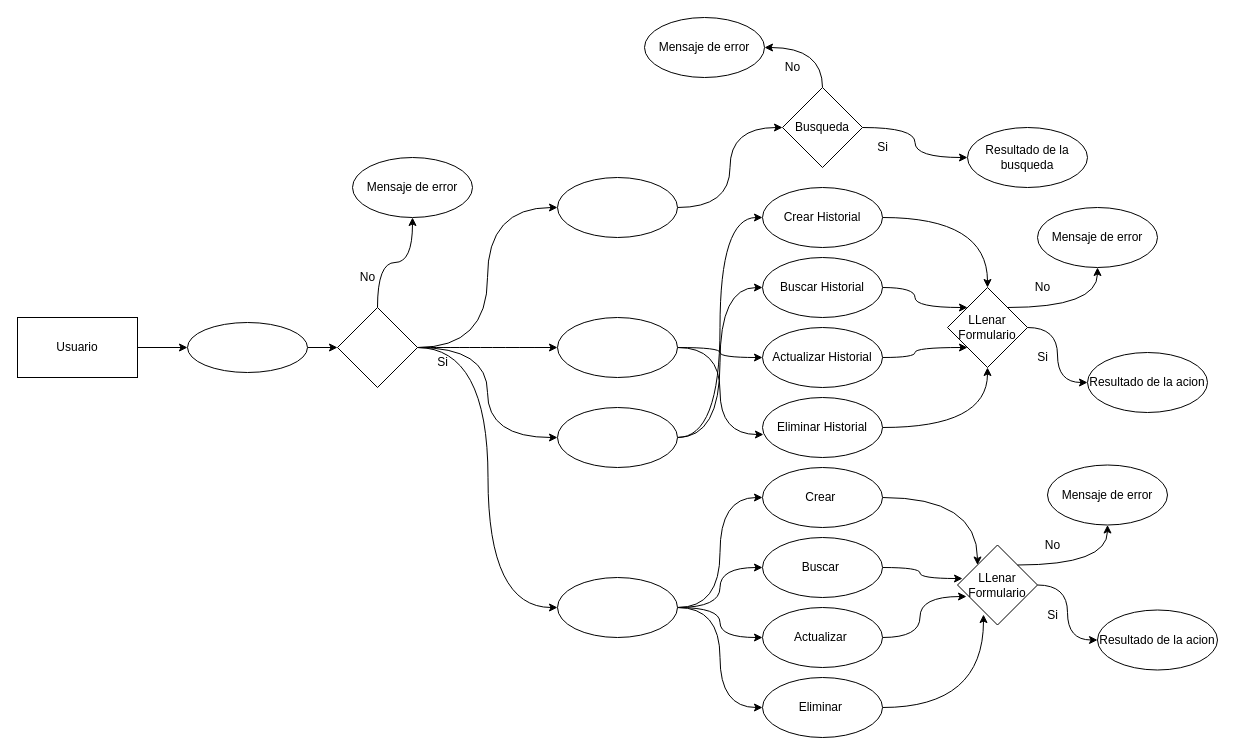
The diagram is 1235 pixels wide and 755 high, and some of its shapes have lost their labels. The centre of each missing label's shape, as x and y in pixels:
Buscador General: the point at 617,207
Historial Odontologias: the point at 617,347
Historial Ortodoncias: the point at 617,437
Login: the point at 247,347
Pacientes: the point at 617,607
Validacion: the point at 377,347
